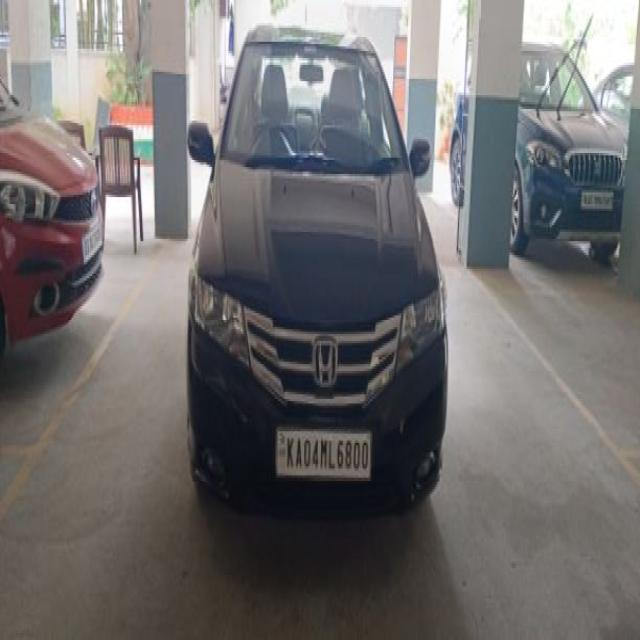license_plate: (274, 424, 372, 480)
